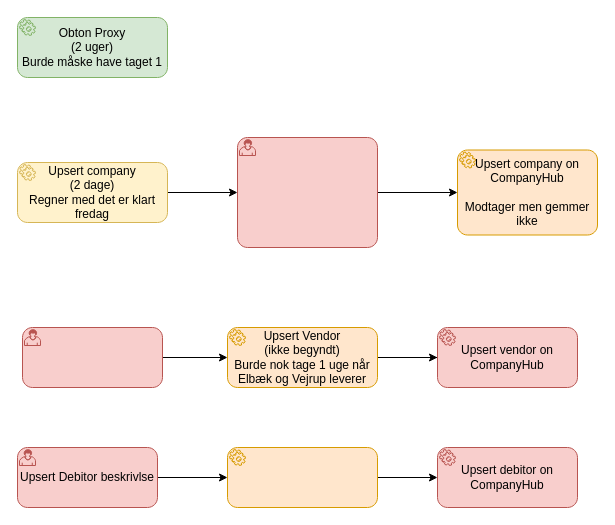
This 615x525 diagram has some shape labels left out. The centre of each missing label's shape, as x and y in pixels:
"Upsert Company Error List Support/ProjektOpgave" goes at (x=307, y=192).
"Upsert Debitor (ikke begyndt) Burde nok tage 1 uge når Elbæk og Vejrup leverer" goes at (x=302, y=477).
"Upsert Vendor beskrivlse" goes at (x=92, y=357).
